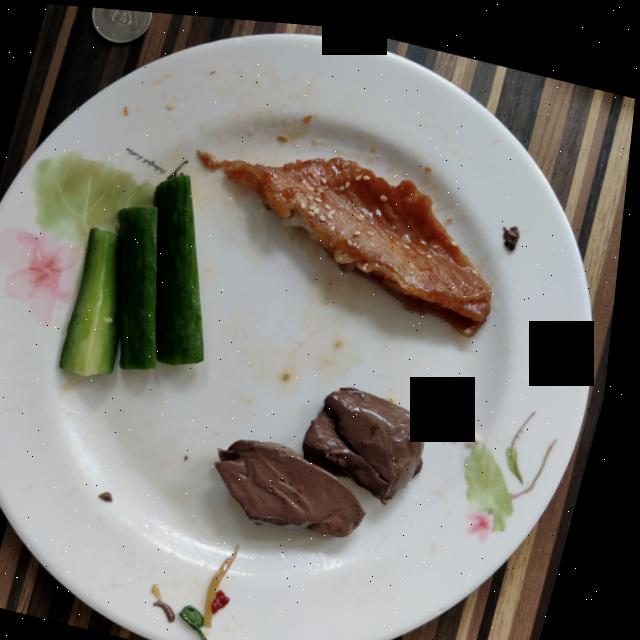Kabayaki sea bream fillet: (200, 147, 497, 328)
coin: (92, 6, 152, 42)
cucumber: (67, 172, 211, 374)
pig blood curd: (225, 381, 433, 531)
